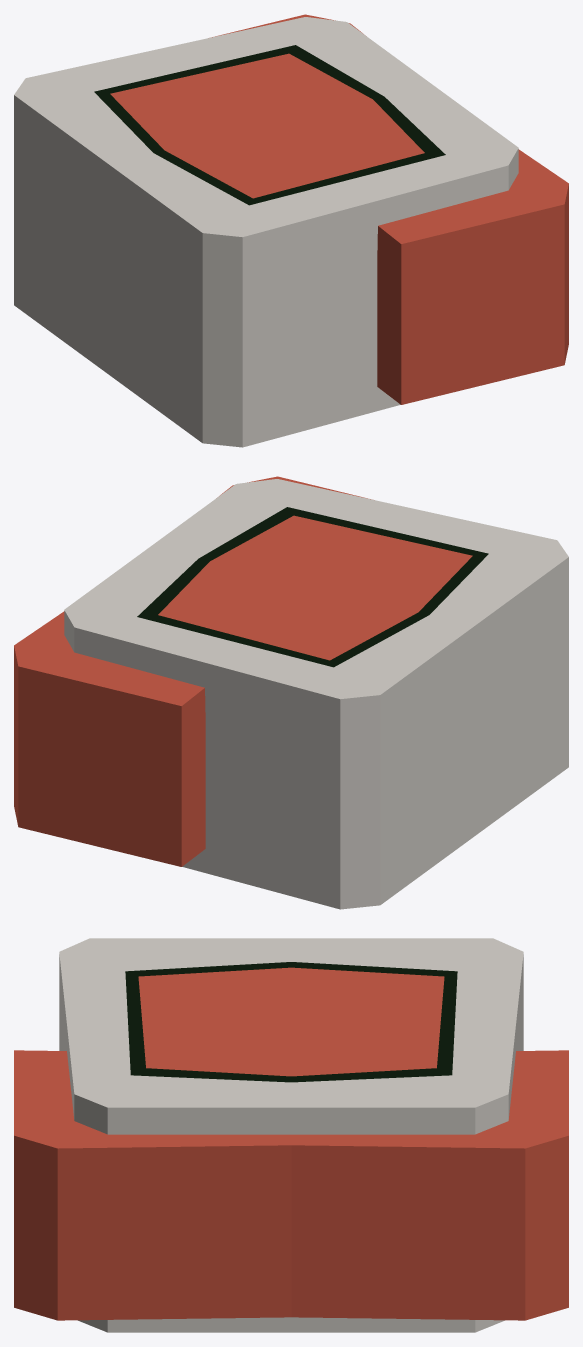
The model's file is uramakiDragon.fbx.
The picture shows the model from 3 angles, top to bottom: view 1: azimuth 30°, elevation 25°; view 2: azimuth 150°, elevation 25°; view 3: azimuth 270°, elevation 25°; orthographic projection. The views are drawn at different scales.
Visible parts, largest first — view 1: uramakiDragon; view 2: uramakiDragon; view 3: uramakiDragon.
Boxes of the visible parts, x1,y1,x2,y2 form: uramakiDragon: (14,14,568,447); uramakiDragon: (14,476,568,909); uramakiDragon: (14,938,568,1332).
Bounding box in the file's own units: 6.01 × 3.44 × 7.68.
1 material, 1 textured.
